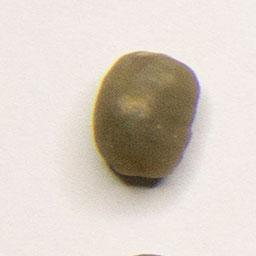peaberry: (88, 47, 204, 184)
